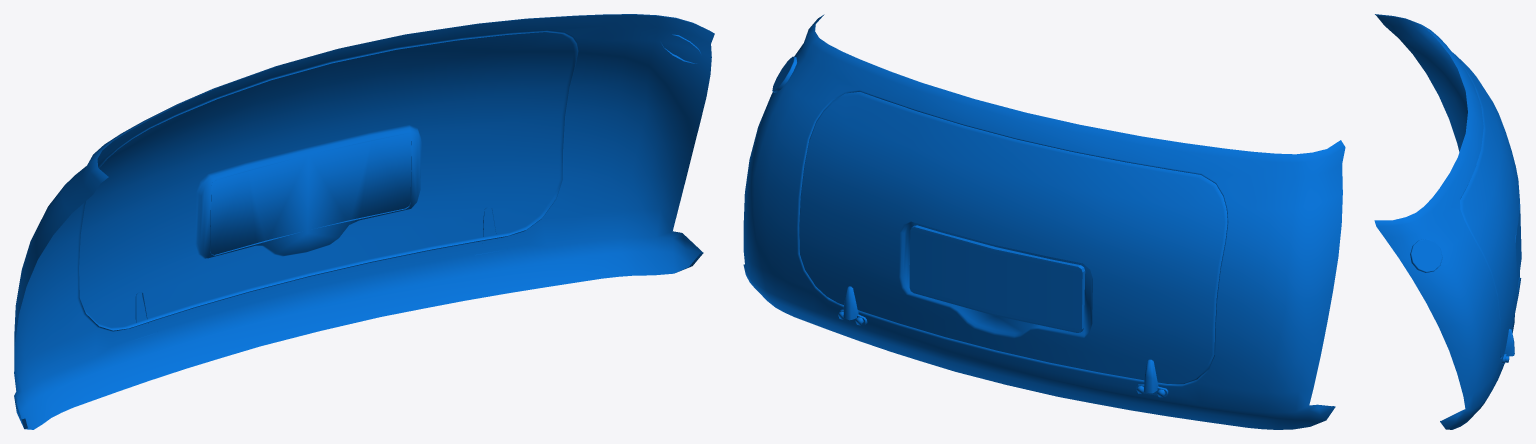
File: Mini_BB01_Duco.fbx
3 renders of one model, left to right at view 1: azimuth 30°, elevation 25°; view 2: azimuth 150°, elevation 25°; view 3: azimuth 270°, elevation 25°, orthographic. The views are drawn at different scales.
Parts seen in each view (by area): view 1: Mini_BB01_Duco; view 2: Mini_BB01_Duco; view 3: Mini_BB01_Duco.
Boxes of the visible parts, bbox=[...] form: Mini_BB01_Duco: bbox=[14, 14, 714, 429]; Mini_BB01_Duco: bbox=[743, 14, 1345, 429]; Mini_BB01_Duco: bbox=[1374, 14, 1521, 429].
Size of the model in its own units: 130 by 54.67 by 34.57.
